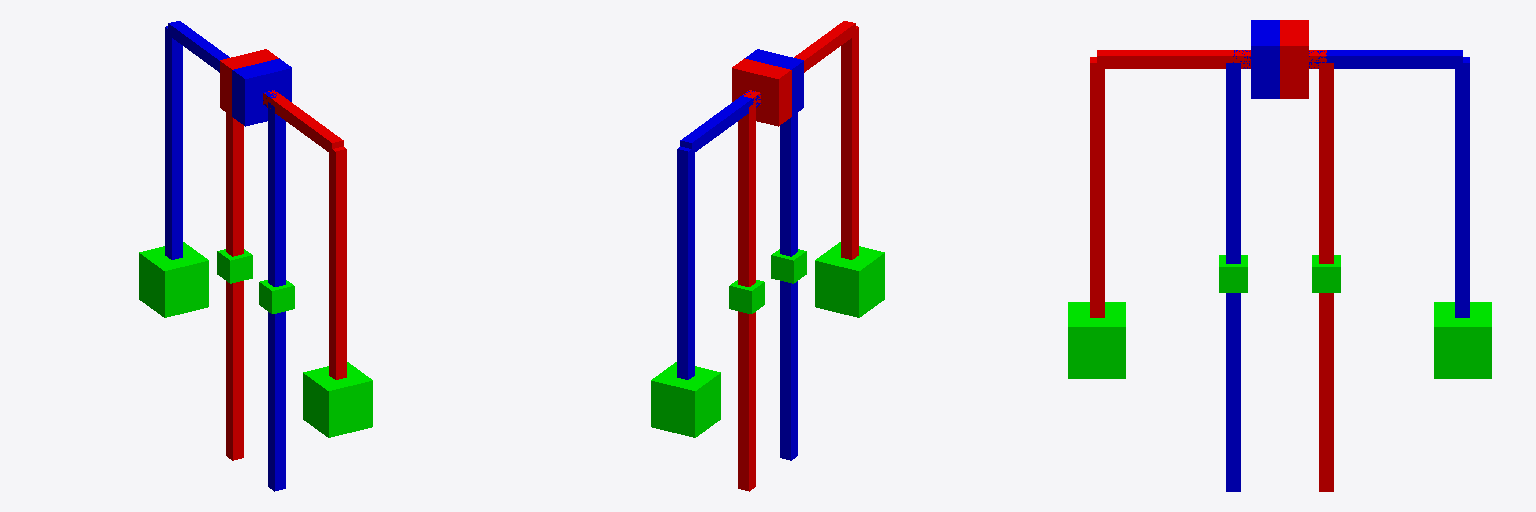
robot.urdf — stick_bot:
<?xml version='1.0' encoding='utf-8'?>
<robot name="stick_bot">
  <link name="left_leg">
    <visual name="left_leg_motor">
      <origin xyz="0 0.00485 0" rpy="0 0 0" />
      <geometry>
        <box size="0.0203 0.0097 0.0195" />
      </geometry>
      <material>
        <color rgba="1 0 0 0.5" />
      </material>
    </visual>
    <visual name="left_leg_axel">
      <origin xyz="0 0.007825 0" rpy="0 0 0" />
      <geometry>
        <box size="0.0049 0.01565 0.0049" />
      </geometry>
      <material>
        <color rgba="1 0 0 0.5" />
      </material>
    </visual>
    <visual name="left_leg_arm_axel">
      <origin xyz="0 -0.03065 0" rpy="0 0 0" />
      <geometry>
        <box size="0.0049 0.0613 0.0049" />
      </geometry>
      <material>
        <color rgba="1 0 0 0.5" />
      </material>
    </visual>
    <visual name="left_leg_arm">
      <origin xyz="0 -0.0613 -0.052" rpy="0 0 0" />
      <geometry>
        <box size="0.0049 0.0049 0.104" />
      </geometry>
      <material>
        <color rgba="1 0 0 0.5" />
      </material>
    </visual>
    <visual name="left_leg_hand_mass">
      <origin xyz="0 -0.0613 -0.104" rpy="0 0 0" />
      <geometry>
        <box size="0.0193 0.0193 0.0193" />
      </geometry>
      <material>
        <color rgba="0 1 0 0.5" />
      </material>
    </visual>
    <visual name="left_leg_link">
      <origin xyz="0 0.01565 -0.07935" rpy="0 0 0" />
      <geometry>
        <box size="0.0049 0.0049 0.1587" />
      </geometry>
      <material>
        <color rgba="1 0 0 0.5" />
      </material>
    </visual>
    <visual name="left_leg_mass">
      <origin xyz="0 0.01565 -0.07935" rpy="0 0 0" />
      <geometry>
        <box size="0.00965 0.00965 0.00965" />
      </geometry>
      <material>
        <color rgba="0 1 0 0.5" />
      </material>
    </visual>
    <visual name="left_leg_foot_visual">
      <origin xyz="0.0133 0.01565 -0.1587" rpy="0 0 0" />
      <geometry>
        <mesh filename="file:///X_0.2402_Y_0.2316_Z_0.2424_box_x_0.1027_box_y_0.0523/left_foot_geom.obj" />
      </geometry>
      <material>
        <color rgba="1 0 0 0.5" />
      </material>
    </visual>
    <collision name="left_leg_foot_collision">
      <origin xyz="0.0133 0.01565 -0.1587" rpy="0 0 0" />
      <geometry>
        <mesh filename="file:///X_0.2402_Y_0.2316_Z_0.2424_box_x_0.1027_box_y_0.0523/left_foot_geom.obj" />
      </geometry>
      <material>
        <color rgba="1 0 0 0.5" />
      </material>
    </collision>
  </link>
  <link name="right_leg">
    <visual name="right_leg_motor">
      <origin xyz="0 -0.00485 0" rpy="0 0 0" />
      <geometry>
        <box size="0.0203 0.0097 0.0195" />
      </geometry>
      <material>
        <color rgba="0 0 1 0.5" />
      </material>
    </visual>
    <visual name="right_leg_axel">
      <origin xyz="0 -0.007825 0" rpy="0 0 0" />
      <geometry>
        <box size="0.0049 0.01565 0.0049" />
      </geometry>
      <material>
        <color rgba="0 0 1 0.5" />
      </material>
    </visual>
    <visual name="right_leg_arm_axel">
      <origin xyz="0 0.03065 0" rpy="0 0 0" />
      <geometry>
        <box size="0.0049 0.0613 0.0049" />
      </geometry>
      <material>
        <color rgba="0 0 1 0.5" />
      </material>
    </visual>
    <visual name="right_leg_arm">
      <origin xyz="0 0.0613 -0.052" rpy="0 0 0" />
      <geometry>
        <box size="0.0049 0.0049 0.104" />
      </geometry>
      <material>
        <color rgba="0 0 1 0.5" />
      </material>
    </visual>
    <visual name="right_leg_hand_mass">
      <origin xyz="0 0.0613 -0.104" rpy="0 0 0" />
      <geometry>
        <box size="0.0193 0.0193 0.0193" />
      </geometry>
      <material>
        <color rgba="0 1 0 0.5" />
      </material>
    </visual>
    <visual name="right_leg_link">
      <origin xyz="0 -0.01565 -0.07935" rpy="0 0 0" />
      <geometry>
        <box size="0.0049 0.0049 0.1587" />
      </geometry>
      <material>
        <color rgba="0 0 1 0.5" />
      </material>
    </visual>
    <visual name="right_leg_mass">
      <origin xyz="0 -0.01565 -0.07935" rpy="0 0 0" />
      <geometry>
        <box size="0.00965 0.00965 0.00965" />
      </geometry>
      <material>
        <color rgba="0 1 0 0.5" />
      </material>
    </visual>
    <visual name="right_leg_foot_visual">
      <origin xyz="0.0133 -0.01565 -0.1587" rpy="0 0 0" />
      <geometry>
        <mesh filename="file:///X_0.2402_Y_0.2316_Z_0.2424_box_x_0.1027_box_y_0.0523/right_foot_geom.obj" />
      </geometry>
      <material>
        <color rgba="0 0 1 0.5" />
      </material>
    </visual>
    <collision name="right_leg_foot_collision">
      <origin xyz="0.0133 -0.01565 -0.1587" rpy="0 0 0" />
      <geometry>
        <mesh filename="file:///X_0.2402_Y_0.2316_Z_0.2424_box_x_0.1027_box_y_0.0523/right_foot_geom.obj" />
      </geometry>
      <material>
        <color rgba="0 0 1 0.5" />
      </material>
    </collision>
  </link>
  <link name="left_leg_hand_mass_mass_link">
    <inertial name="left_leg_hand_mass_inertial">
      <origin xyz="0 -0.0613 -0.104" rpy="0 0 0" />
      <mass value="0.1025" />
      <inertia ixx="0" ixy="0" ixz="0" iyy="0" iyz="0" izz="0" />
    </inertial>
  </link>
  <link name="left_leg_mass_mass_link">
    <inertial name="left_leg_mass_inertial">
      <origin xyz="0 0.01565 -0.07935" rpy="0 0 0" />
      <mass value="0.1018" />
      <inertia ixx="0" ixy="0" ixz="0" iyy="0" iyz="0" izz="0" />
    </inertial>
  </link>
  <link name="left_feet_mass_link">
    <inertial name="left_feet_inertial">
      <origin xyz="0.0133 0.01565 -0.1587" rpy="0 0 0" />
      <mass value="0.0992" />
      <inertia ixx="0" ixy="0" ixz="0" iyy="0" iyz="0" izz="0" />
    </inertial>
  </link>
  <link name="right_leg_hand_mass_mass_link">
    <inertial name="right_leg_hand_mass_inertial">
      <origin xyz="0 0.0613 -0.104" rpy="0 0 0" />
      <mass value="0.1025" />
      <inertia ixx="0" ixy="0" ixz="0" iyy="0" iyz="0" izz="0" />
    </inertial>
  </link>
  <link name="right_leg_mass_mass_link">
    <inertial name="right_leg_mass_inertial">
      <origin xyz="0 -0.01565 -0.07935" rpy="0 0 0" />
      <mass value="0.1018" />
      <inertia ixx="0" ixy="0" ixz="0" iyy="0" iyz="0" izz="0" />
    </inertial>
  </link>
  <link name="right_feet_mass_link">
    <inertial name="right_feet_inertial">
      <origin xyz="0.0133 -0.01565 -0.1587" rpy="0 0 0" />
      <mass value="0.0992" />
      <inertia ixx="0" ixy="0" ixz="0" iyy="0" iyz="0" izz="0" />
    </inertial>
  </link>
  <joint name="hip" type="revolute">
    <origin xyz="0 0 0" rpy="0 0 0" />
    <parent link="left_leg" />
    <child link="right_leg" />
    <axis xyz="0 1 0" />
    <limit lower="-0.785" upper="0.785" />
  </joint>
  <joint name="fixed_left_leg_hand_mass_mass_link" type="fixed">
    <origin xyz="0 0 0" rpy="0 0 0" />
    <parent link="left_leg" />
    <child link="left_leg_hand_mass_mass_link" />
  </joint>
  <joint name="fixed_left_leg_mass_mass_link" type="fixed">
    <origin xyz="0 0 0" rpy="0 0 0" />
    <parent link="left_leg" />
    <child link="left_leg_mass_mass_link" />
  </joint>
  <joint name="fixed_left_feet_mass_link" type="fixed">
    <origin xyz="0 0 0" rpy="0 0 0" />
    <parent link="left_leg" />
    <child link="left_feet_mass_link" />
  </joint>
  <joint name="fixed_right_leg_hand_mass_mass_link" type="fixed">
    <origin xyz="0 0 0" rpy="0 0 0" />
    <parent link="right_leg" />
    <child link="right_leg_hand_mass_mass_link" />
  </joint>
  <joint name="fixed_right_leg_mass_mass_link" type="fixed">
    <origin xyz="0 0 0" rpy="0 0 0" />
    <parent link="right_leg" />
    <child link="right_leg_mass_mass_link" />
  </joint>
  <joint name="fixed_right_feet_mass_link" type="fixed">
    <origin xyz="0 0 0" rpy="0 0 0" />
    <parent link="right_leg" />
    <child link="right_feet_mass_link" />
  </joint>
</robot>

--- Render facts (derived) ---
3 views of the same robot in one strip: view 1: azimuth 30°, elevation 25°; view 2: azimuth 150°, elevation 25°; view 3: azimuth 270°, elevation 25° (orthographic).
Model stick_bot with 8 links and 7 joints (1 revolute, 6 fixed), rooted at left_leg, posed all joints at 0.
Links seen in each view (by area): view 1: right_leg, left_leg; view 2: left_leg, right_leg; view 3: left_leg, right_leg.
Boxes of the visible links, box(x1,y1,x2,y2) form: right_leg: box(139, 21, 294, 491); left_leg: box(217, 49, 372, 460); left_leg: box(729, 21, 884, 491); right_leg: box(651, 49, 806, 460); left_leg: box(1068, 20, 1340, 491); right_leg: box(1219, 20, 1491, 491).
Bounding box of the posed robot: 0.0203 × 0.1419 × 0.1684 m (x, y, z).
Geometry: only primitive shapes (box / cylinder / sphere) drawn; not drawn: 2 mesh visuals (reference in a form the renderer does not follow).
